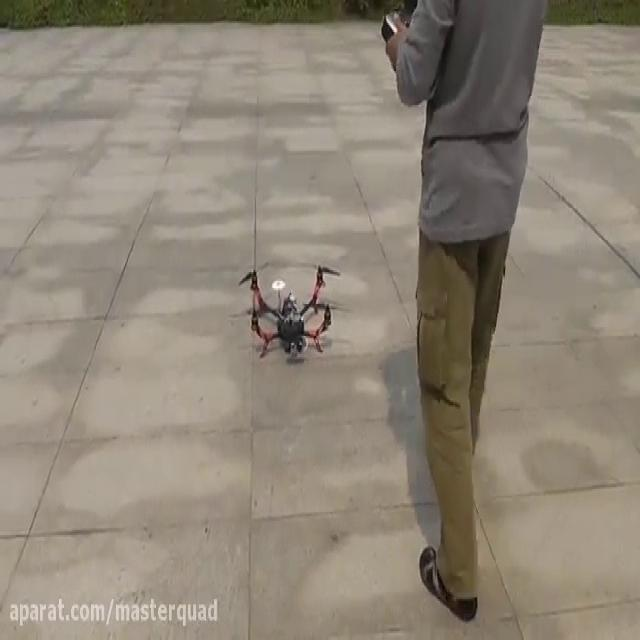drone: (237, 254, 347, 361)
